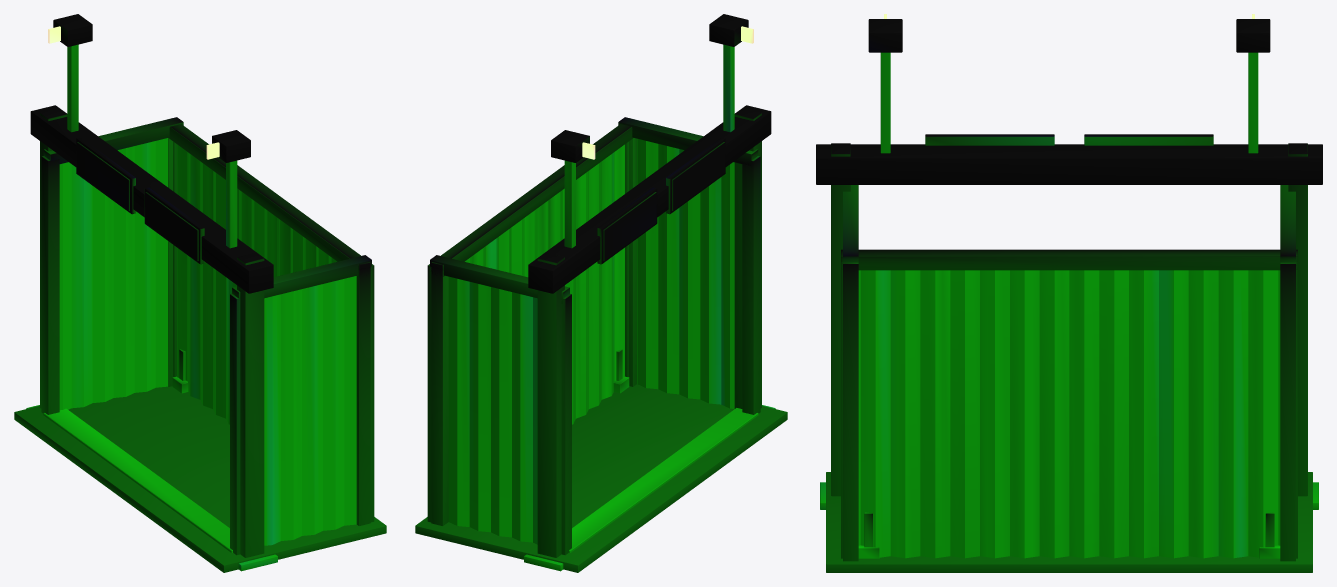
Rendered from arena_gate.glb.
The picture shows the model from 3 angles, left to right: view 1: azimuth 30°, elevation 25°; view 2: azimuth 150°, elevation 25°; view 3: azimuth 270°, elevation 25°; orthographic projection. The views are drawn at different scales.
Parts seen in each view (by area): view 1: ArenaGate; view 2: ArenaGate; view 3: ArenaGate.
Boxes of the visible parts, <box> form: ArenaGate: <box>14,14,386,572</box>; ArenaGate: <box>415,14,787,572</box>; ArenaGate: <box>816,14,1322,572</box>.
Bounding box in the file's own units: 2.2 × 5.26 × 5.1.
